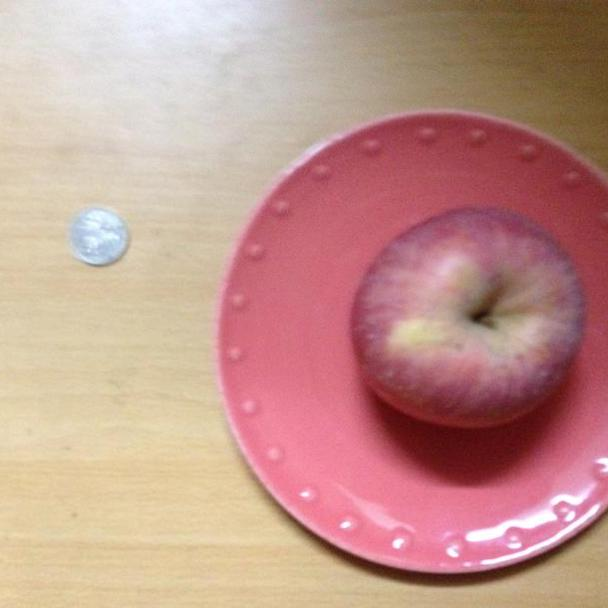apple: (349, 205, 589, 428)
